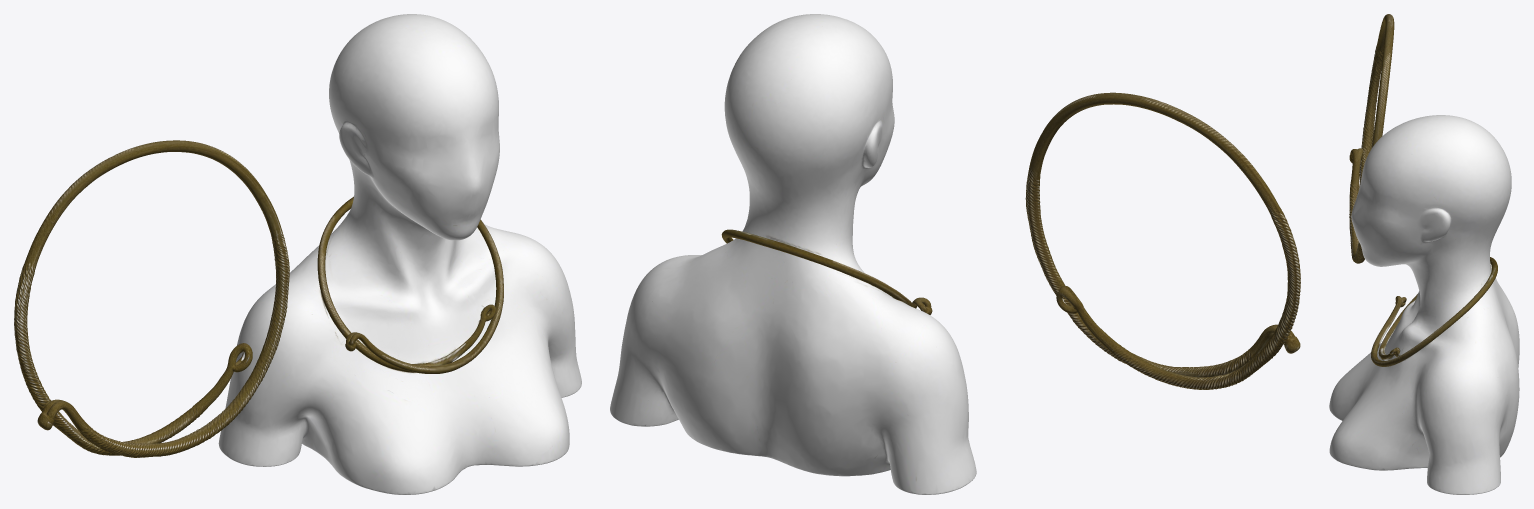
Rendered from glinobitnaya-neck-ornament-v1.glb.
3 renders of one model, left to right at view 1: azimuth 30°, elevation 25°; view 2: azimuth 150°, elevation 25°; view 3: azimuth 270°, elevation 25°, orthographic. The views are drawn at different scales.
Bounding box in the file's own units: 1.9 × 1.19 × 0.6617.
Materials: 1 (1 with a texture image).
